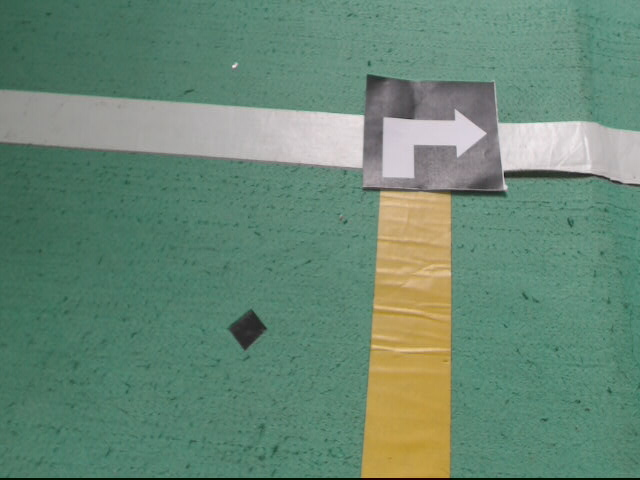right: (365, 72, 506, 193)
